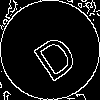D: (25, 25, 81, 83)
